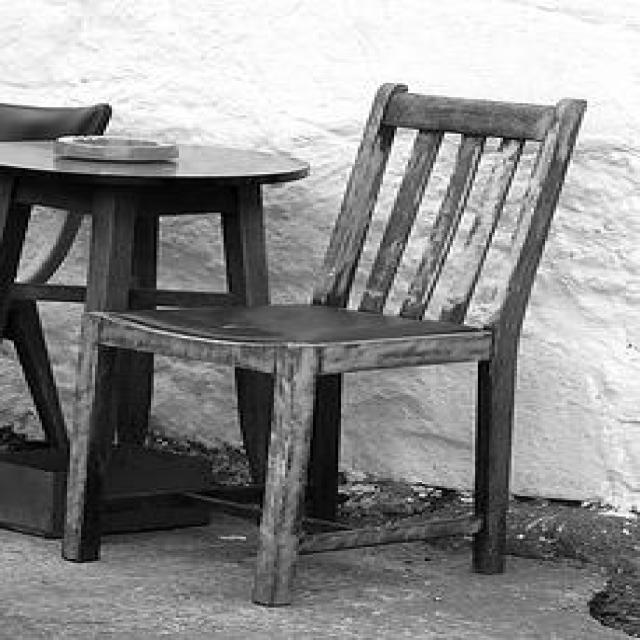chair: (59, 81, 587, 606)
